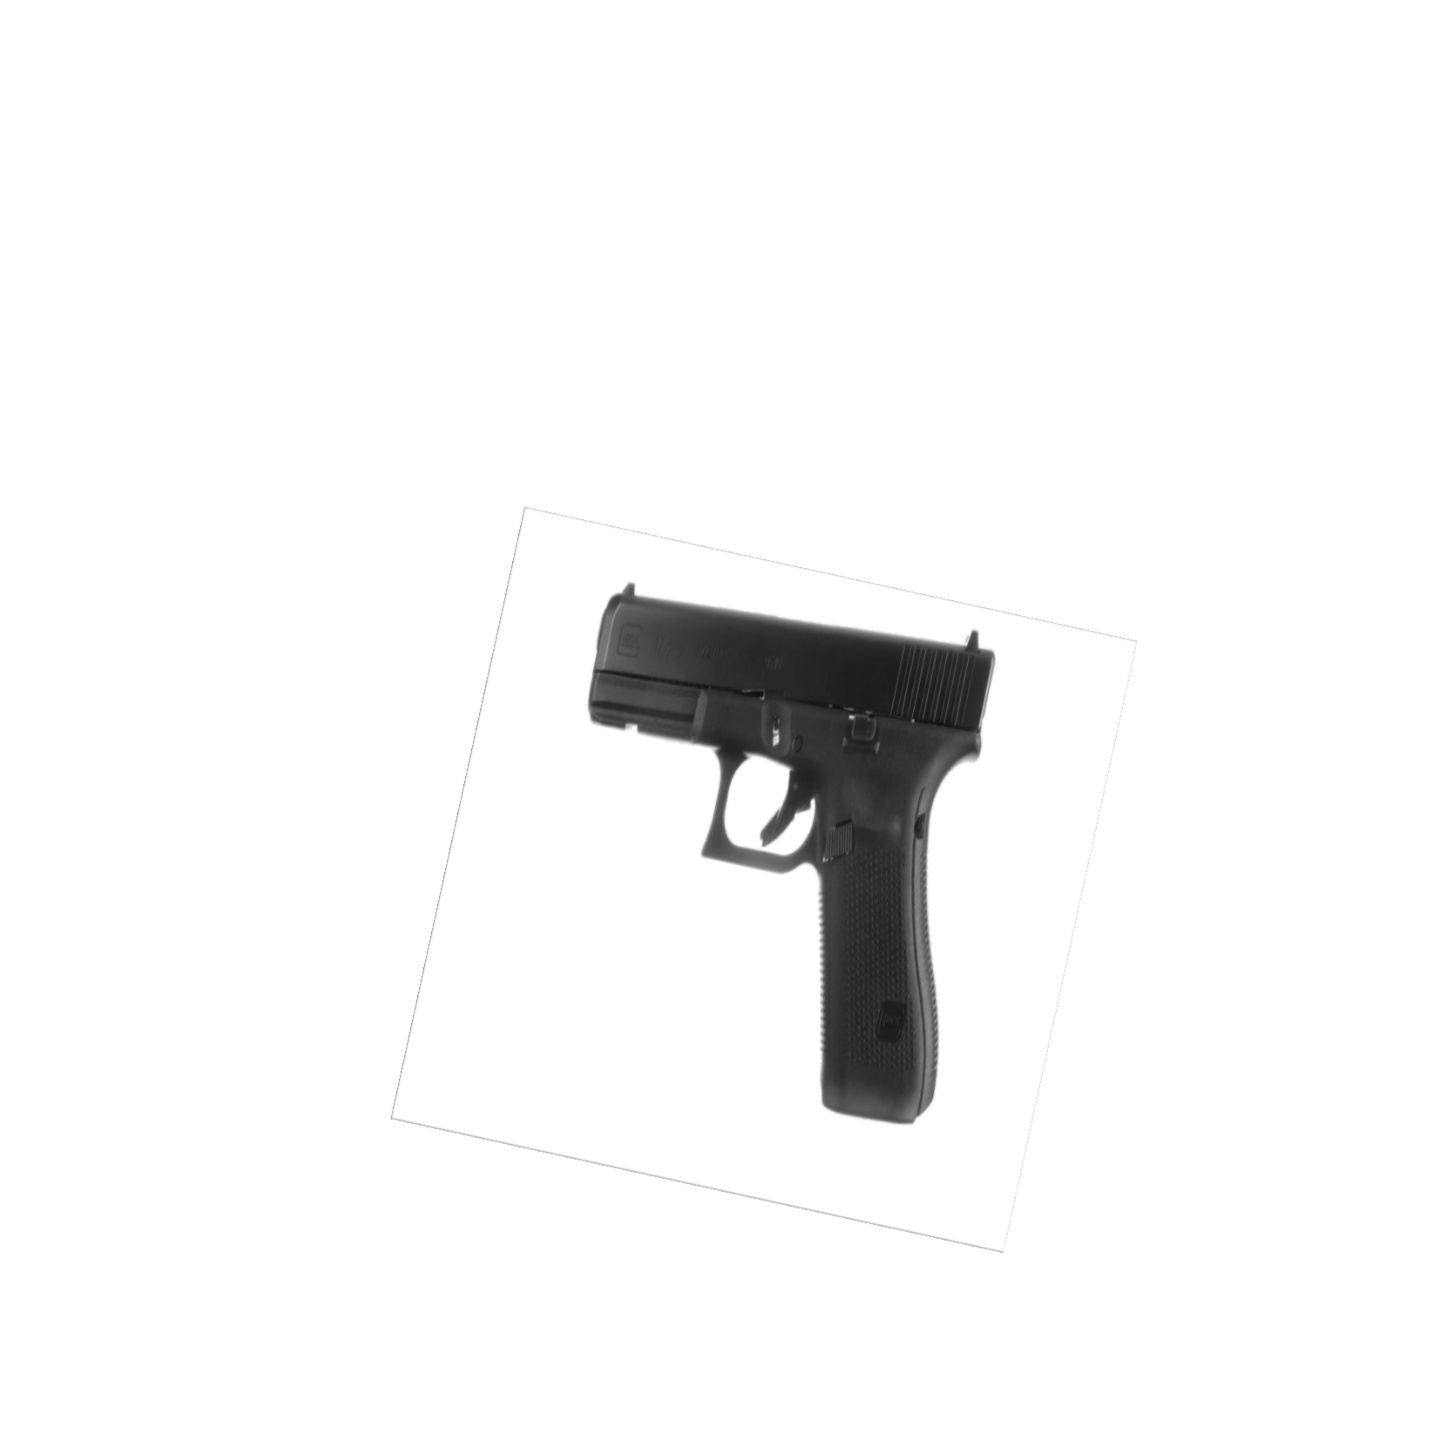gun: (587, 582, 996, 1125)
